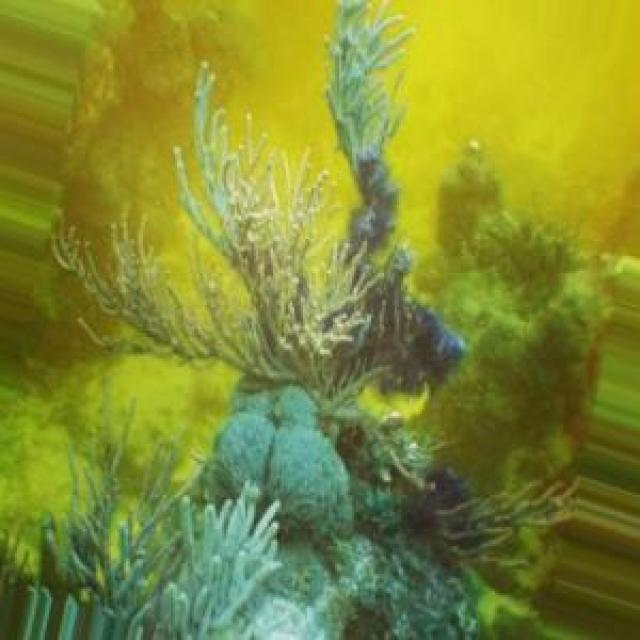Bleached: (142, 389, 481, 640), (42, 462, 257, 637), (227, 387, 355, 543)
Healthy: (50, 1, 464, 398)
